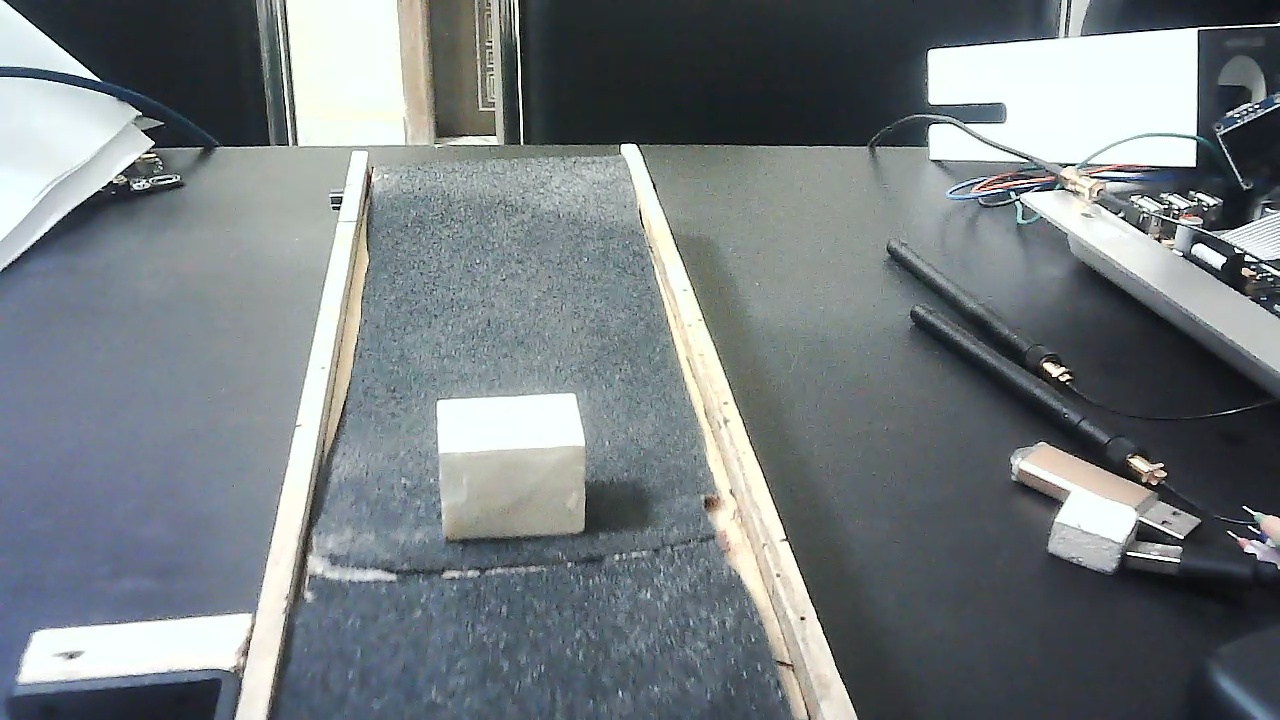Medium: (434, 391, 587, 544)
